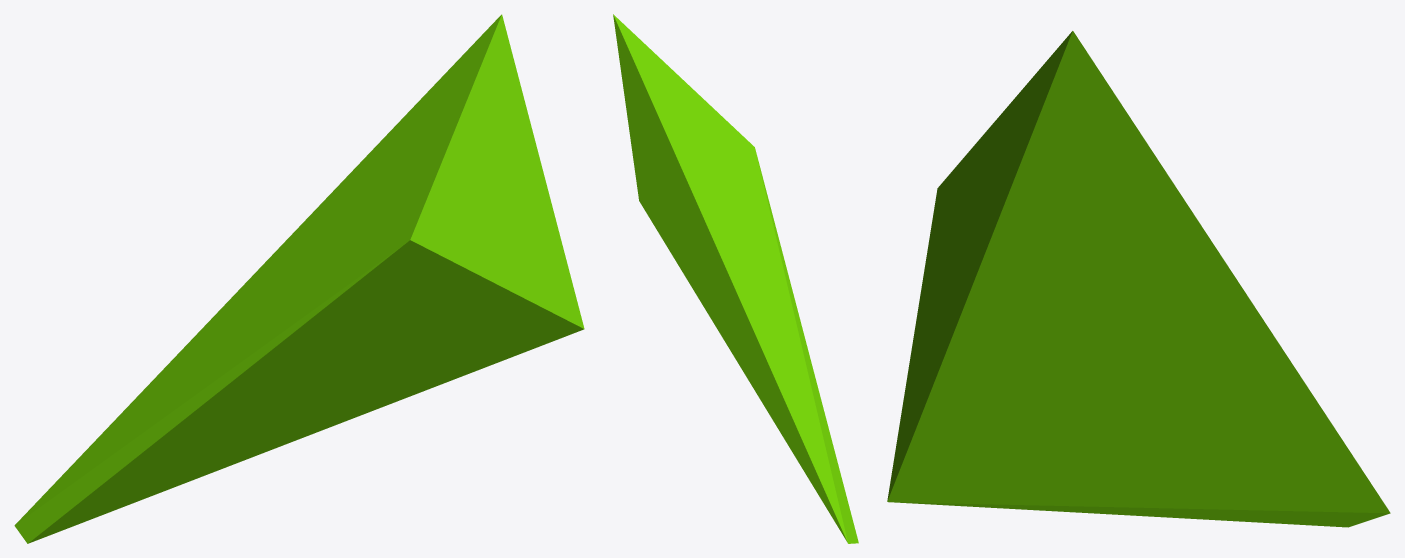
File: arm-L1_convex_piece_014.obj
3 views of the same model, side by side, from view 1: azimuth 30°, elevation 25°; view 2: azimuth 150°, elevation 25°; view 3: azimuth 270°, elevation 25° (orthographic). The views are drawn at different scales.
Bounding box in the file's own units: 0.0103 × 0.0118 × 0.00671.
